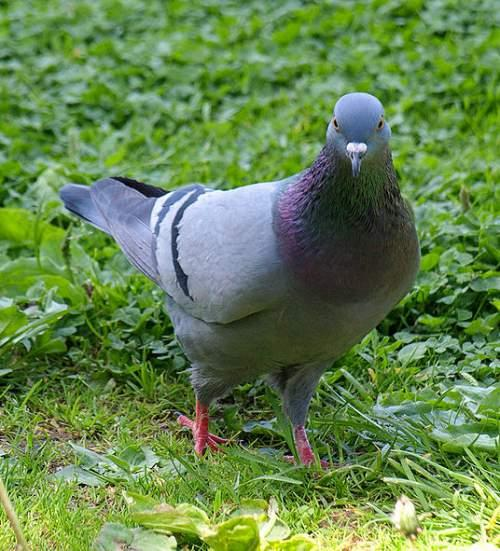Flying Rat: (67, 86, 418, 473)
